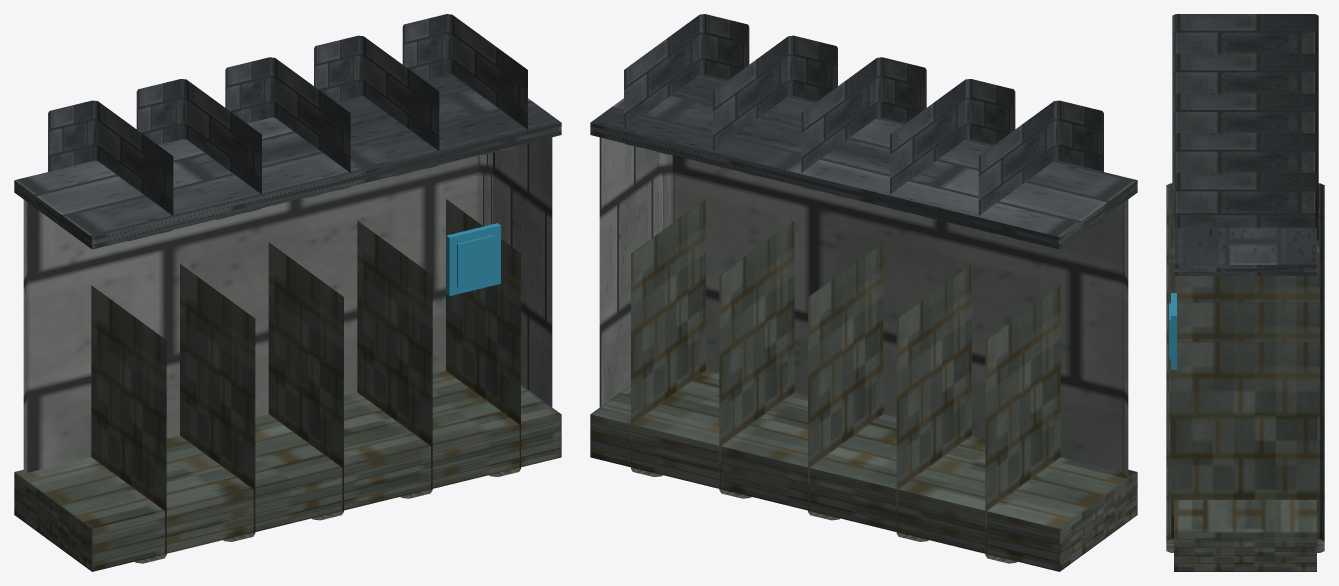
The model's file is edificio-wall-e2-MUZqoLP2.glb.
The picture shows the model from 3 angles, left to right: view 1: azimuth 30°, elevation 25°; view 2: azimuth 150°, elevation 25°; view 3: azimuth 270°, elevation 25°; orthographic projection. The views are drawn at different scales.
Visible parts, largest first — view 1: wall_body, team_color; view 2: wall_body; view 3: wall_body, team_color.
Boxes of the visible parts, box(x1,y1,x2,y2) form: wall_body: box(14, 14, 561, 571); team_color: box(446, 223, 500, 296); wall_body: box(590, 14, 1137, 571); wall_body: box(1166, 14, 1324, 571); team_color: box(1169, 293, 1176, 369).
Size of the model in its own units: 32 by 25.7 by 10.2.
2 materials, 1 textured.
